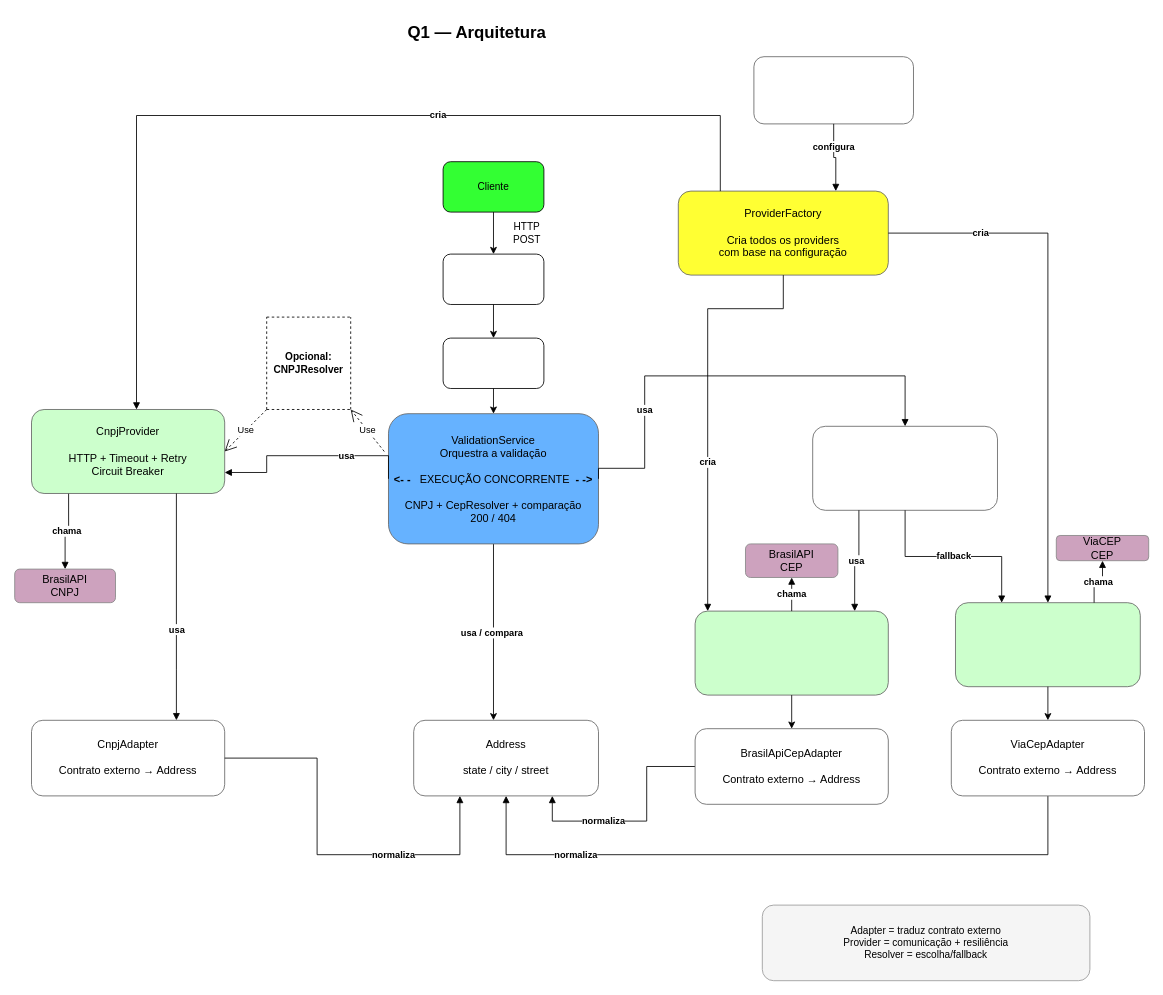
The diagram is 1163 pixels wide and 995 high, and some of its shapes have lost their labels. The shapes that lost their labels are listed below. From the top down, each one's centre as x and y in pixels, then its label:
At (x=833, y=90): "Config URLs • timeout • retries primary • fallback".
At (x=493, y=278): "FastAPI".
At (x=493, y=362): "ValidationRequiest Pydantic".
At (x=905, y=467): "CepResolver Coordena primary → fallback".
At (x=791, y=652): "BrasilApiCepProvider HTTP + Timeout + Retry Circuit Breaker".
At (x=1047, y=644): "ViaCepProvider HTTP + Timeout + Retry Circuit Breaker".
